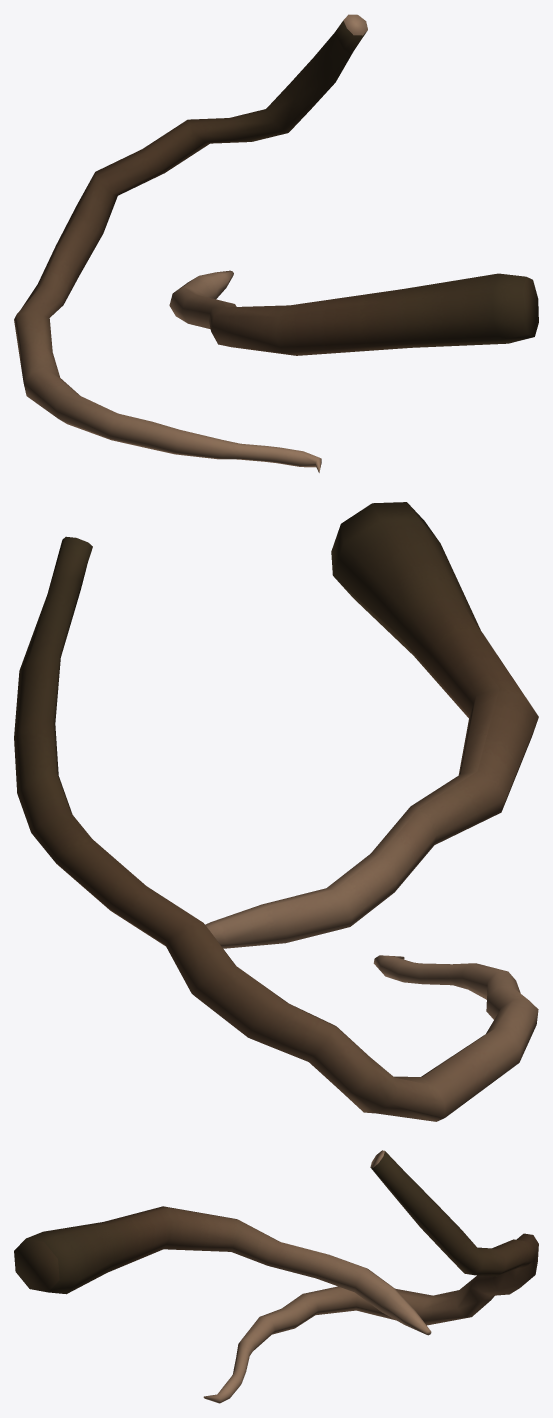
The model's file is Roots.fbx.
3 renders of one model, top to bottom at view 1: azimuth 30°, elevation 25°; view 2: azimuth 150°, elevation 25°; view 3: azimuth 270°, elevation 25°, orthographic. The views are drawn at different scales.
Visible parts, largest first — view 1: Cylinder003, Cylinder002; view 2: Cylinder003, Cylinder002; view 3: Cylinder002, Cylinder003.
Part boxes in pixels (x1,y1,x2,y2): Cylinder003: (14,14,367,472); Cylinder002: (169,270,538,355); Cylinder003: (14,536,538,1121); Cylinder002: (205,502,538,948); Cylinder002: (14,1206,431,1335); Cylinder003: (203,1150,538,1403).
Size of the model in its own units: 1.83 by 1.92 by 2.99.
1 material, 1 textured.
